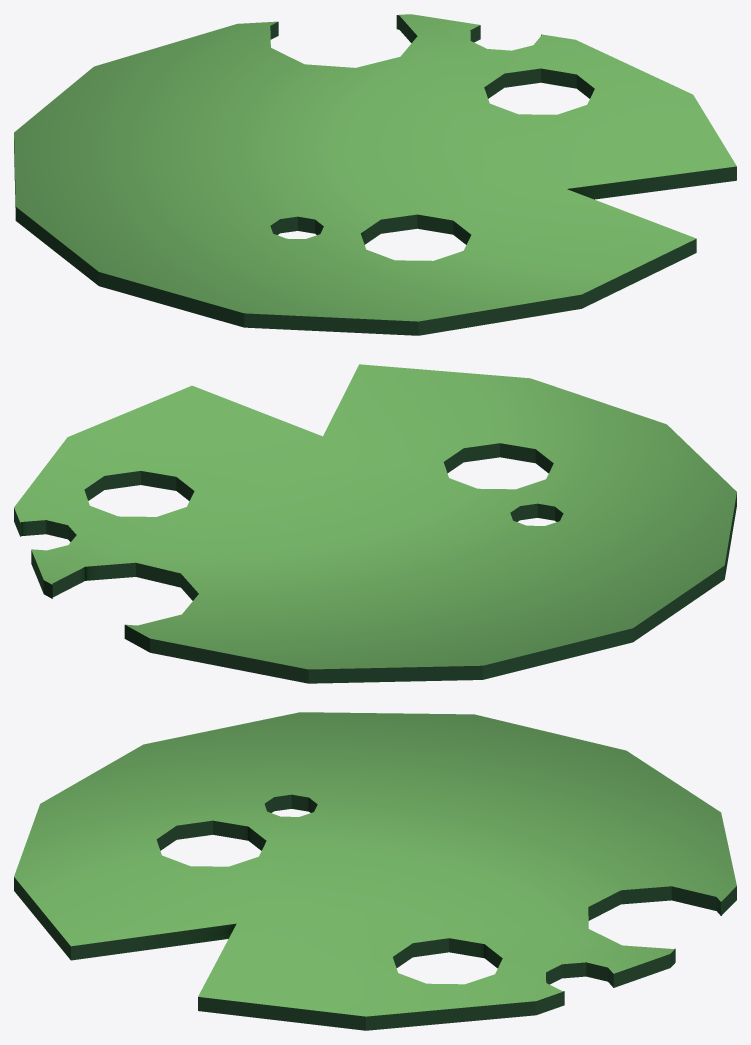
File: ripped lily.glb
3 views of the same model, one above another, from view 1: azimuth 30°, elevation 25°; view 2: azimuth 150°, elevation 25°; view 3: azimuth 270°, elevation 25° (orthographic).
Visible parts, largest first — view 1: Lilly.Rotted_Lilly_0; view 2: Lilly.Rotted_Lilly_0; view 3: Lilly.Rotted_Lilly_0.
Part boxes in pixels (bbox=[...]): Lilly.Rotted_Lilly_0: bbox=[14, 14, 736, 335]; Lilly.Rotted_Lilly_0: bbox=[14, 364, 736, 683]; Lilly.Rotted_Lilly_0: bbox=[14, 712, 736, 1030].
Bounding box in the file's own units: 1.86 × 0.0403 × 1.86.
1 material, 1 textured.
